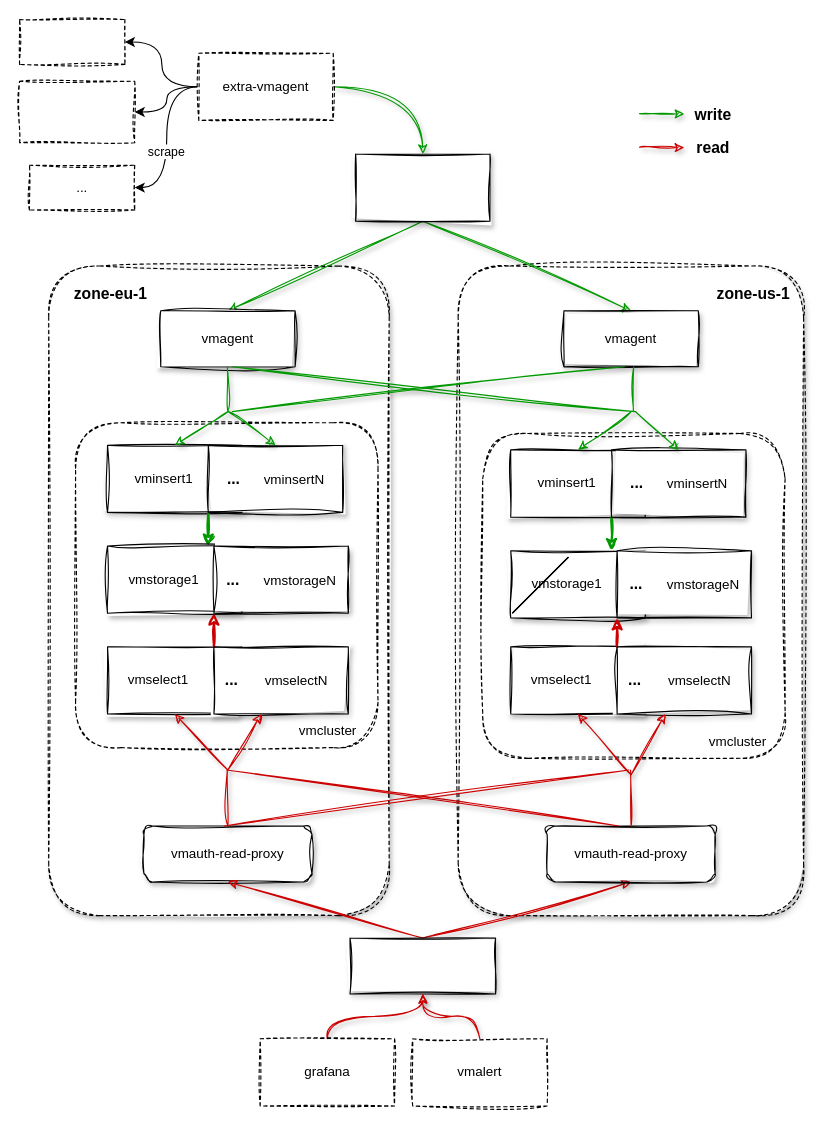
Some shapes in this 830 by 1126 pixel diagram are drawn without their labels. Each missing label, with the centre of its shape:
"kube-state-metrics" belongs at point (76, 111).
"node-exporter" belongs at point (71, 41).
"vmauth-global-read" belongs at point (423, 967).
"vmauth-global-write" belongs at point (423, 188).
